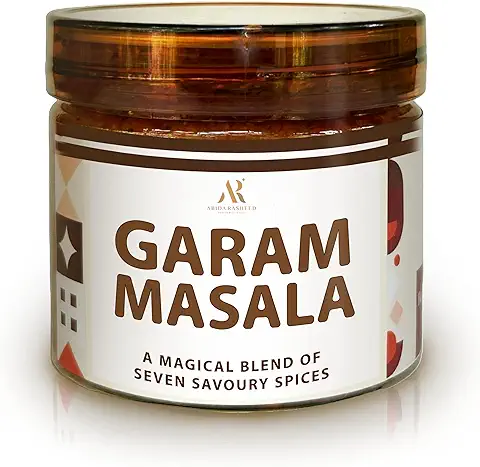Garamasala: (40, 7, 445, 414)
